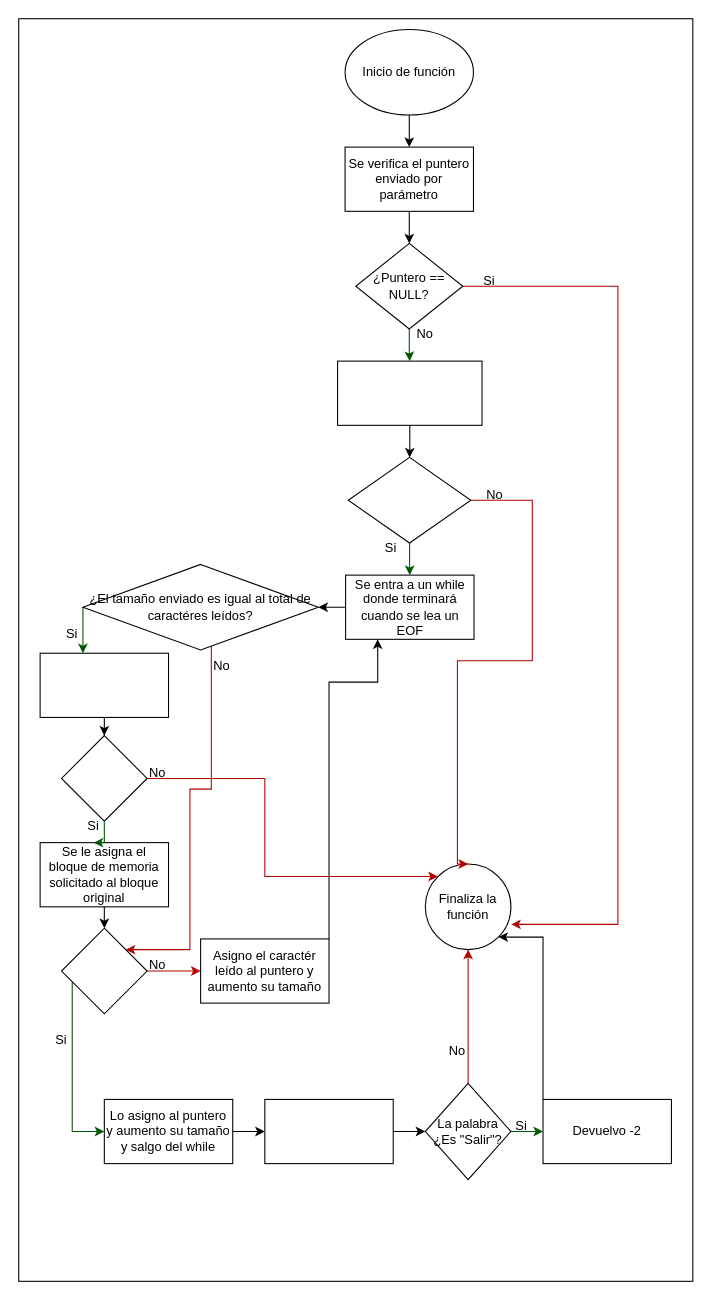
Image size: 712x1300. Some labels were removed from this diagram. Each missing label, with the box of its shape:
Le asigno el caractér '\0': (264, 1098, 393, 1164)
Pido memoria con realloc: (39, 652, 169, 717)
Se lee el primer caractér ingresador por consola por meido de la función fgetc(): (337, 360, 482, 425)
¿Devuelve NULL?: (60, 735, 147, 821)
¿El caractér es '\n'?: (60, 927, 147, 1014)
¿Es válida la lectura? (!= EOF): (347, 456, 471, 543)
